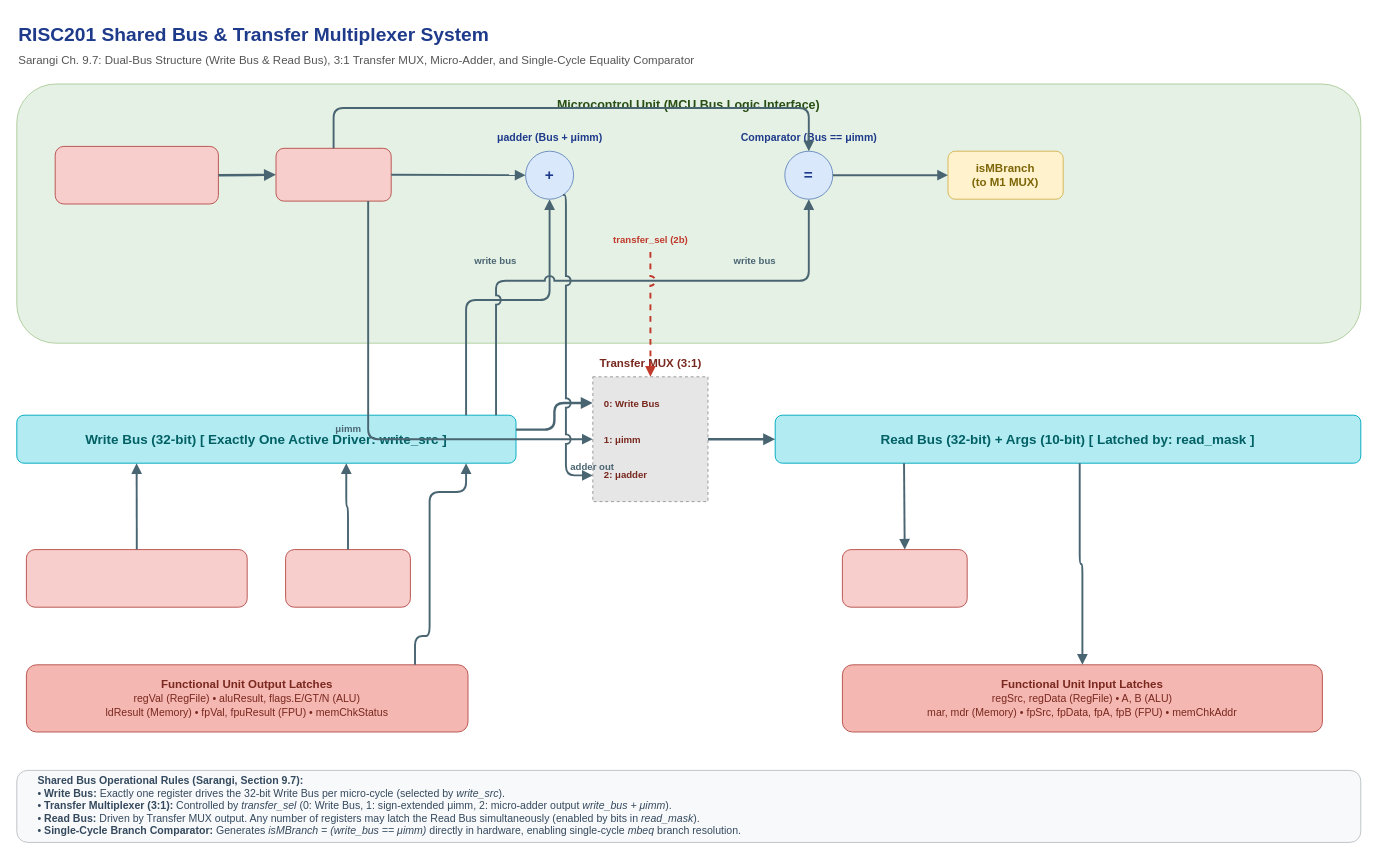
Image size: 1378x859. Some labels were removed from this diagram. Grey dashed boxes stand in for pictures. The shapes that lost their labels are listed below. From the top down, each one's centre as x and y in pixels, then its label:
(x=136, y=174): Control Memory (ROM 1024×65b)
(x=333, y=174): μimm (32-bit sign-ext)
(x=136, y=578): Decode Unit Fields (mode, rd, rs1, rs2, immx, branchTarget)
(x=347, y=578): PC Register (pcout driver)
(x=904, y=578): PC Register (pcin latch)
